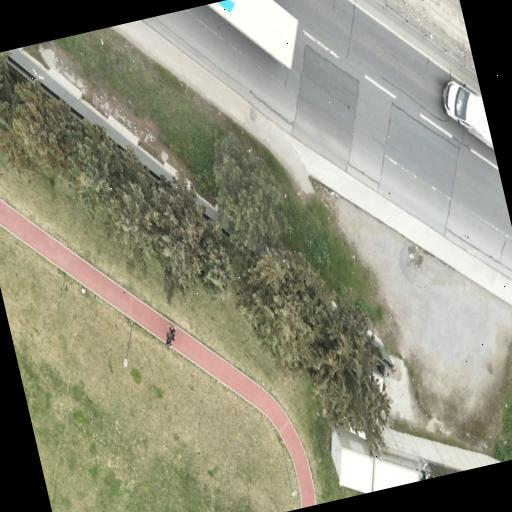person: (168, 324, 176, 340), (165, 333, 171, 348)
truck: (208, 0, 298, 67), (443, 81, 493, 147)
